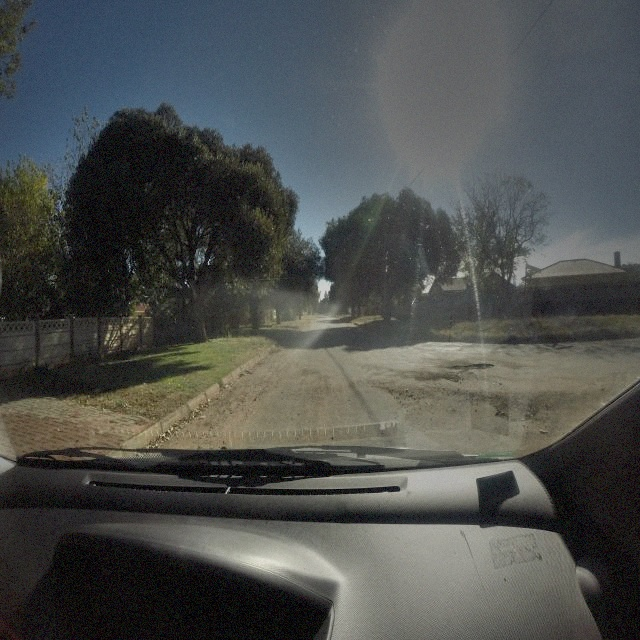pothole: (492, 399, 539, 425), (447, 363, 495, 372)
